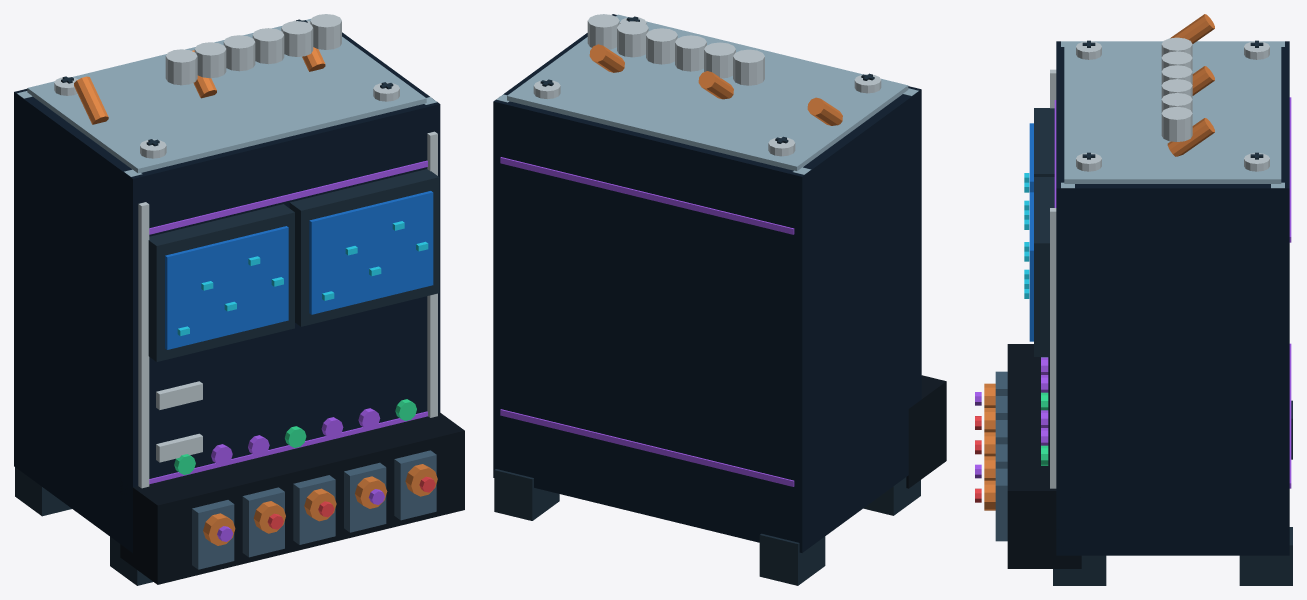
File: 42_L77_PolishingMotorTorqueAnalyzer.fbx
3 views of the same model, side by side, from view 1: azimuth 30°, elevation 25°; view 2: azimuth 150°, elevation 25°; view 3: azimuth 270°, elevation 25° (orthographic). The views are drawn at different scales.
Parts seen in each view (by area): view 1: PolishingMotorTorqueAnalyzer; view 2: PolishingMotorTorqueAnalyzer; view 3: PolishingMotorTorqueAnalyzer.
Boxes of the visible parts, x1,y1,x2,y2 form: PolishingMotorTorqueAnalyzer: (14,14,464,585); PolishingMotorTorqueAnalyzer: (493,14,946,585); PolishingMotorTorqueAnalyzer: (975,14,1292,585).
Size of the model in its own units: 85 by 121 by 77.65.
